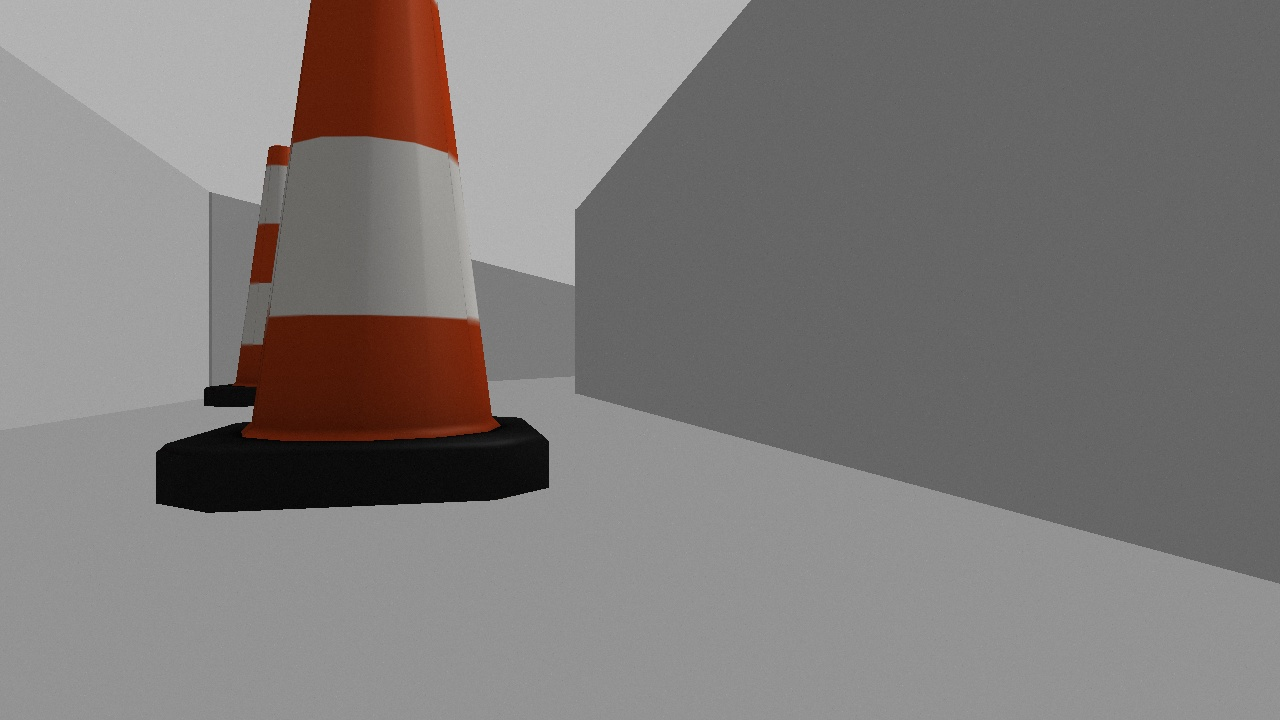barricade: (141, 1, 562, 524), (195, 132, 325, 412)
